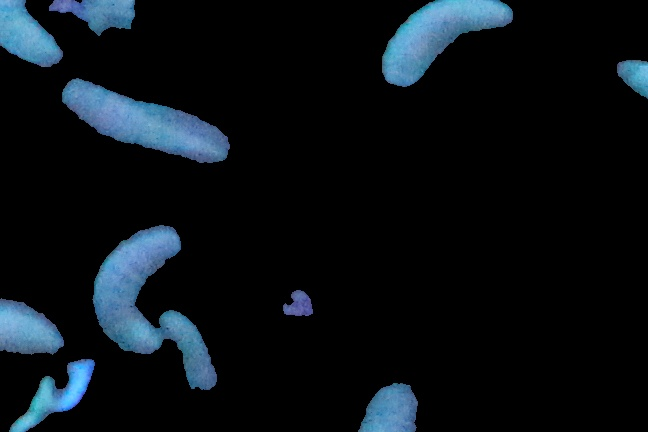larvae: (58, 73, 228, 163), (381, 1, 518, 88), (90, 229, 180, 359), (162, 308, 222, 407), (1, 1, 62, 67), (1, 299, 66, 357)
